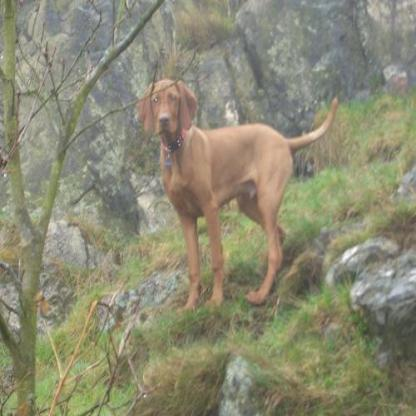vizsla: (132, 78, 336, 307)
